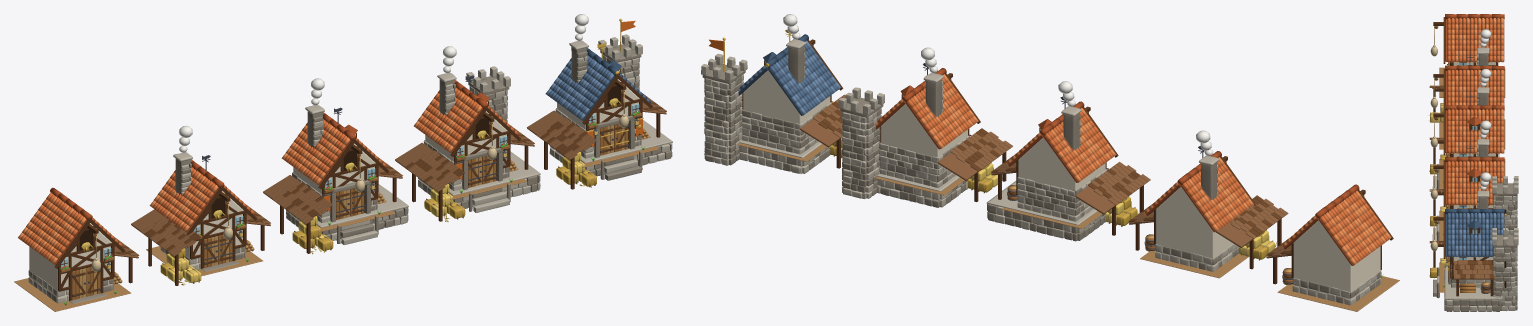
The model's file is granges-niveaux.glb.
The picture shows the model from 3 angles, left to right: view 1: azimuth 30°, elevation 25°; view 2: azimuth 150°, elevation 25°; view 3: azimuth 270°, elevation 25°; orthographic projection. The views are drawn at different scales.
Parts seen in each view (by area): view 1: pierre.006, pierre.008, pierre.009, poutre.001, pierre.007, tuile.001, poutre, pierre.005, pierre.004, poutre.002, poutre.003, poutre.004 (+32 smaller); view 2: pierre.008, pierre.006, mur, pierre.007, mur.001, pierre.009, pierre.004, mur.006, mur.002, mur.004, pierre.005, tuile.001 (+30 smaller); view 3: pierre.008, pierre.009, tuile.001, tuile.013, tuile.007, tuile.010, tuile.004, pierre.006, tuile, tuile.006, tuile.012, tuile.009 (+44 smaller).
Boxes of the visible parts, x1=… form: pierre.006: x1=418, y1=66, x2=540, y2=212; pierre.008: x1=549, y1=34, x2=672, y2=173; pierre.009: x1=554, y1=44, x2=672, y2=180; poutre.001: x1=148, y1=186, x2=264, y2=285; pierre.007: x1=422, y1=76, x2=540, y2=211; tuile.001: x1=20, y1=192, x2=123, y2=261; poutre: x1=54, y1=218, x2=132, y2=300; pierre.005: x1=286, y1=116, x2=408, y2=243; pierre.004: x1=286, y1=120, x2=408, y2=244; poutre.002: x1=280, y1=133, x2=396, y2=253; poutre.003: x1=412, y1=100, x2=528, y2=221; poutre.004: x1=544, y1=68, x2=660, y2=189; pierre.008: x1=701, y1=52, x2=831, y2=173; pierre.006: x1=838, y1=81, x2=969, y2=207; mur: x1=1293, y1=220, x2=1380, y2=303; pierre.007: x1=840, y1=95, x2=967, y2=207; mur.001: x1=1156, y1=187, x2=1238, y2=269; pierre.009: x1=702, y1=47, x2=830, y2=171; pierre.004: x1=986, y1=120, x2=1106, y2=238; mur.006: x1=743, y1=61, x2=830, y2=152; mur.002: x1=1018, y1=129, x2=1105, y2=219; mur.004: x1=880, y1=95, x2=967, y2=185; pierre.005: x1=987, y1=115, x2=1105, y2=241; tuile.001: x1=1290, y1=192, x2=1389, y2=262; pierre.008: x1=1437, y1=203, x2=1518, y2=311; pierre.009: x1=1433, y1=197, x2=1517, y2=311; tuile.001: x1=1447, y1=18, x2=1504, y2=62; tuile.013: x1=1447, y1=213, x2=1503, y2=257; tuile.007: x1=1447, y1=109, x2=1504, y2=153; tuile.010: x1=1447, y1=161, x2=1503, y2=205; tuile.004: x1=1447, y1=70, x2=1504, y2=105; pierre.006: x1=1432, y1=144, x2=1518, y2=258; tuile: x1=1451, y1=18, x2=1504, y2=62; tuile.006: x1=1451, y1=109, x2=1504, y2=153; tuile.012: x1=1451, y1=213, x2=1504, y2=257; tuile.009: x1=1451, y1=161, x2=1504, y2=205.
Size of the model in its own units: 23.58 by 5.12 by 3.7.
